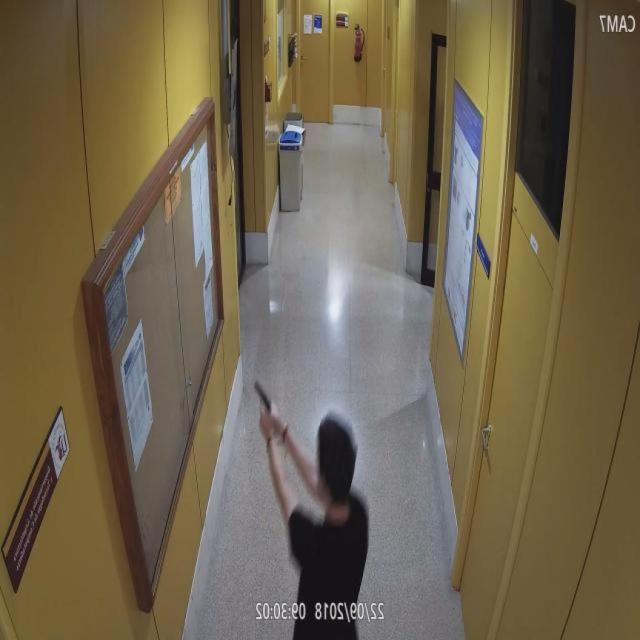pistol: (254, 379, 282, 447)
